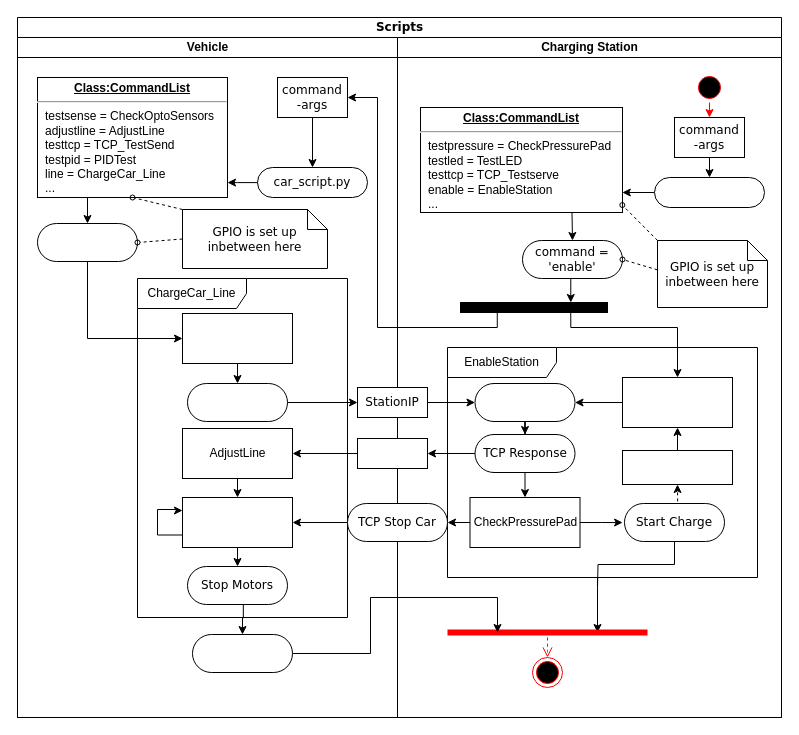
Some shapes in this 799 by 735 pixel diagram are drawn without their labels. Here are the shapes that lost their labels. From the top down, the centre of each, then its label:
(709,192): station_script.py
(87,242): command = 'line'
(237,338): TCP Client Init
(237,402): TCP Request
(524,402): Listen
(677,402): TCP Server Init
(392,453): StationID
(677,467): TCP Server Close
(237,522): PID Controller
(242,653): Shutdown & charge
